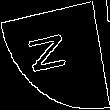N_E: (30, 30, 80, 80)
